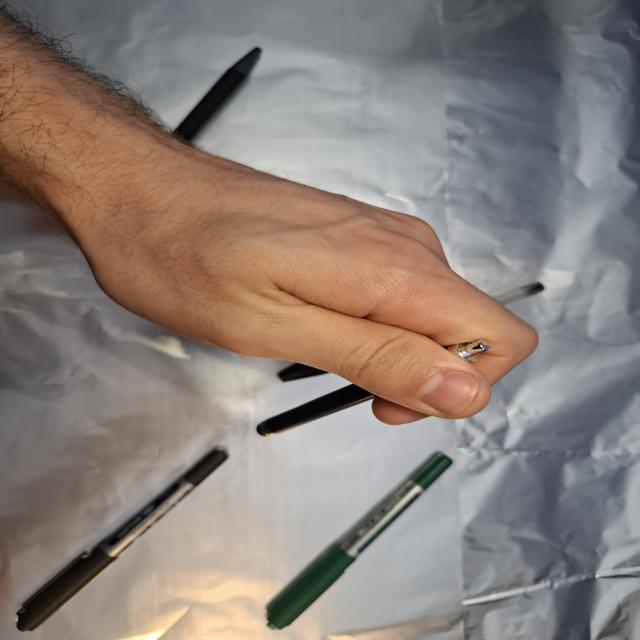glove_off: (63, 142, 543, 428)
